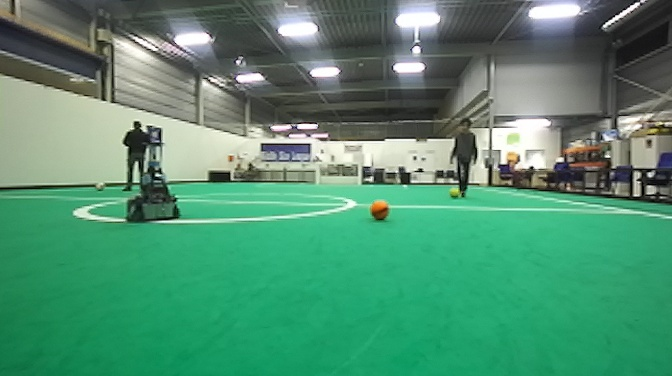ball: (367, 196, 392, 223), (446, 185, 461, 201), (94, 179, 108, 194)
goal: (313, 164, 364, 188)
goalpost: (357, 161, 363, 188), (314, 162, 320, 187)
human: (447, 118, 478, 200), (121, 119, 149, 191)
robot: (124, 139, 185, 226)
